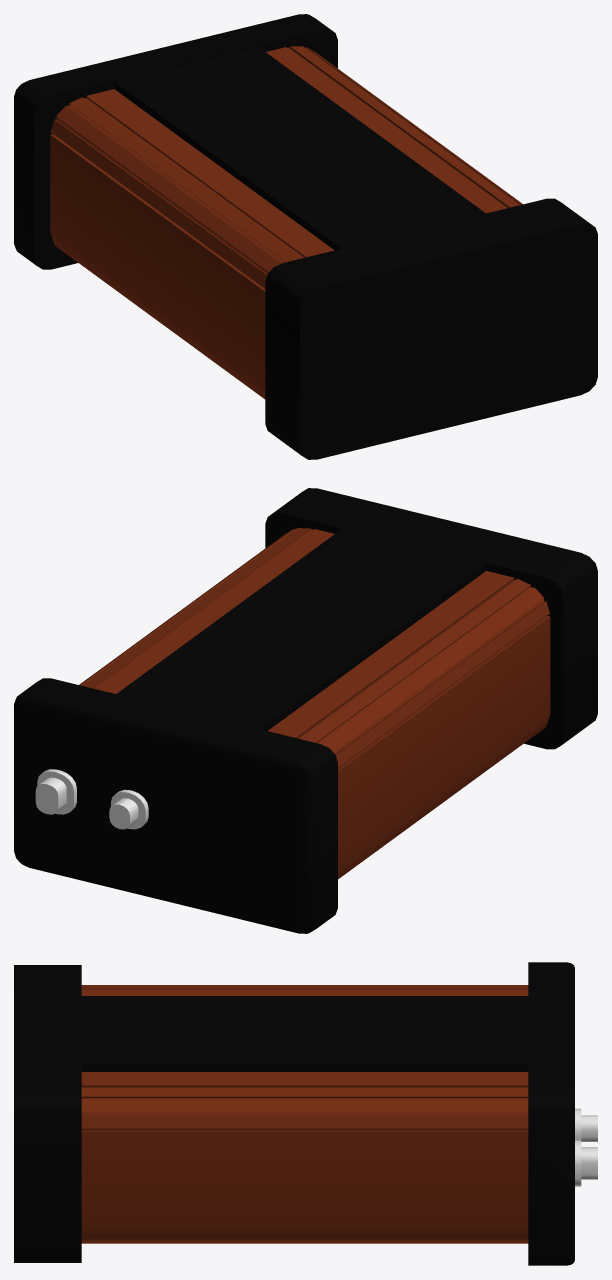
File: detector.fbx
3 renders of one model, top to bottom at view 1: azimuth 30°, elevation 25°; view 2: azimuth 150°, elevation 25°; view 3: azimuth 270°, elevation 25°, orthographic. The views are drawn at different scales.
Visible parts, largest first — view 1: Photodetector; view 2: Photodetector; view 3: Photodetector.
Boxes of the visible parts, x1=… form: Photodetector: x1=14, y1=14, x2=597, y2=459; Photodetector: x1=14, y1=488, x2=597, y2=933; Photodetector: x1=14, y1=962, x2=597, y2=1265.
Bounding box in the file's own units: 0.448 × 0.2459 × 0.7634.
